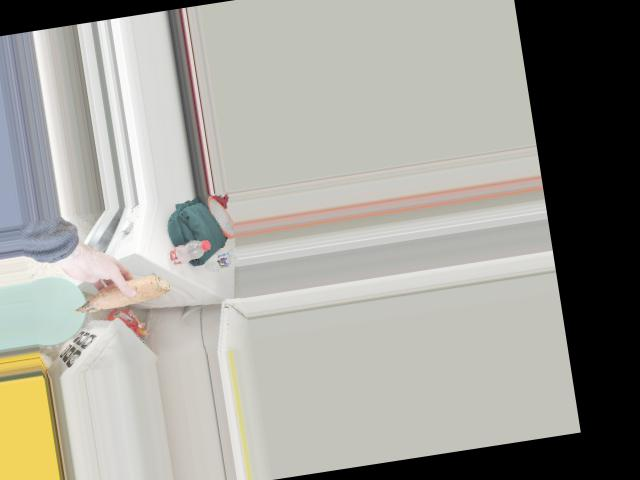sweet_potato: (73, 274, 165, 313)
